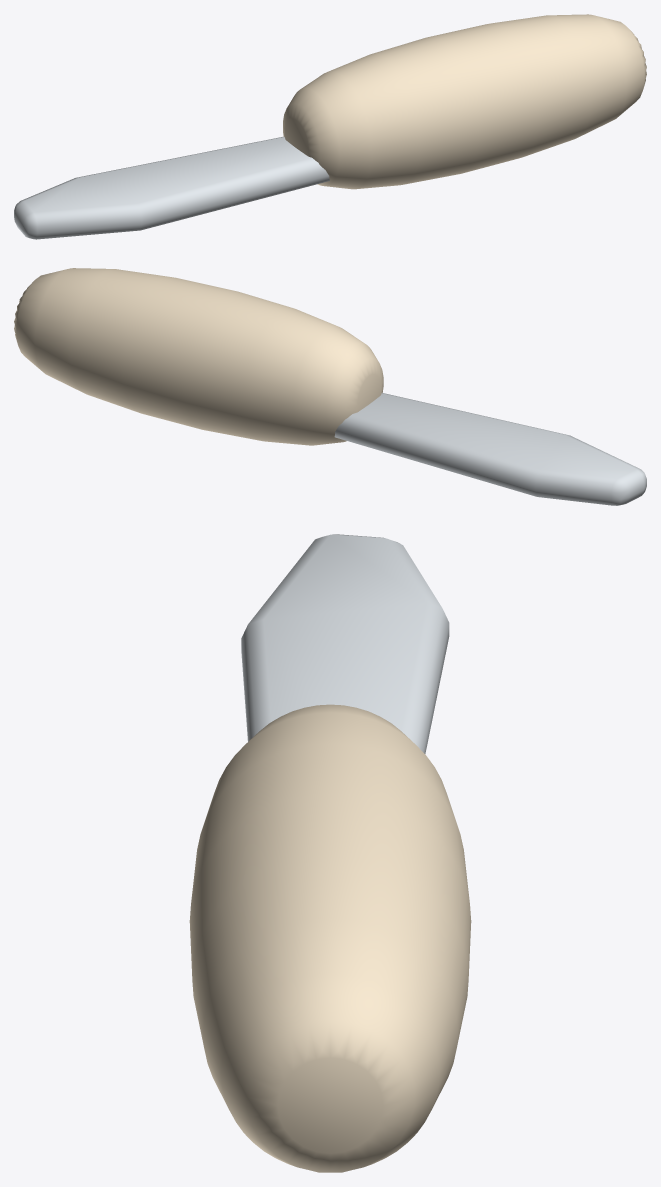
Rendered from cutlery_c.glb.
3 views of the same model, one above another, from view 1: azimuth 30°, elevation 25°; view 2: azimuth 150°, elevation 25°; view 3: azimuth 270°, elevation 25° (orthographic). The views are drawn at different scales.
Parts seen in each view (by area): view 1: body; view 2: body; view 3: body.
Boxes of the visible parts, box(x1,y1,x2,y2) form: body: box(14, 14, 646, 239); body: box(14, 268, 646, 505); body: box(189, 534, 471, 1172).
Size of the model in its own units: 0.1895 by 0.0379 by 0.0379.
